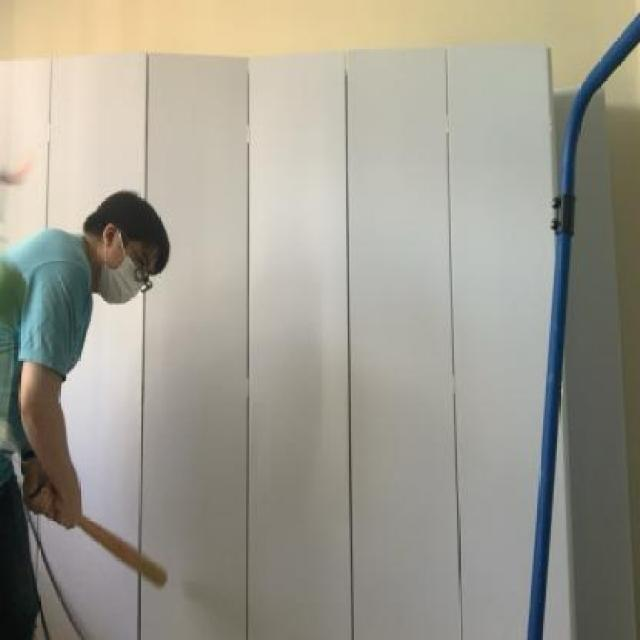baseball: (0, 245, 34, 333)
